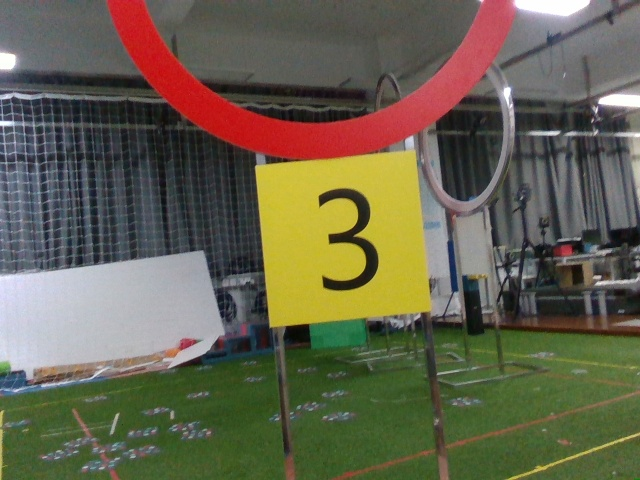target: (265, 163, 421, 311)
